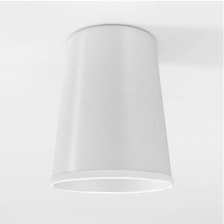glass: (34, 11, 179, 201)
